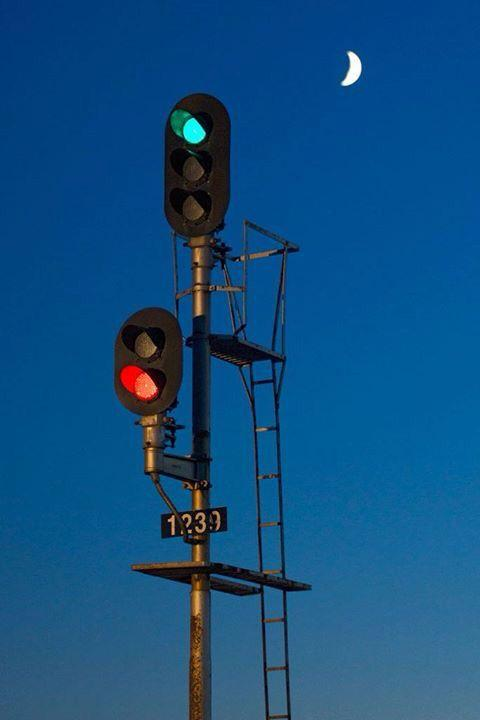Traffic light green: (157, 87, 243, 243)
